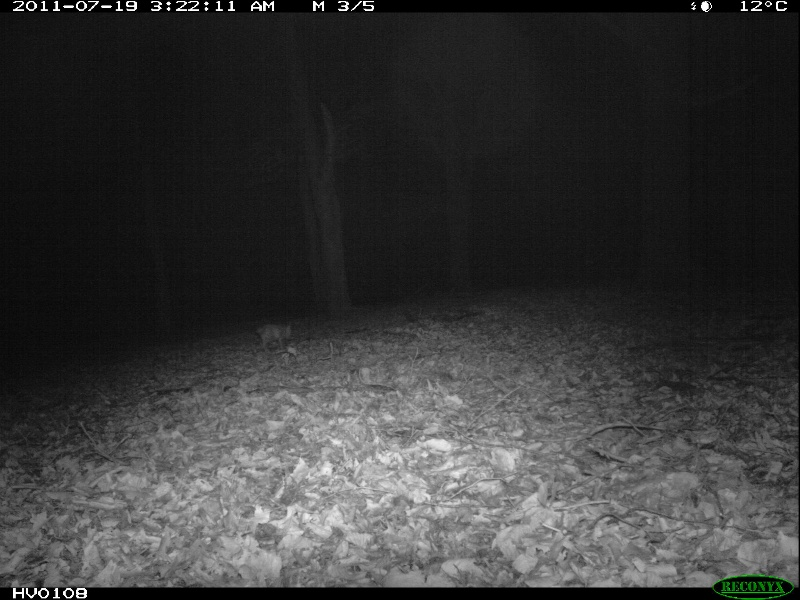fox: (253, 323, 298, 352)
